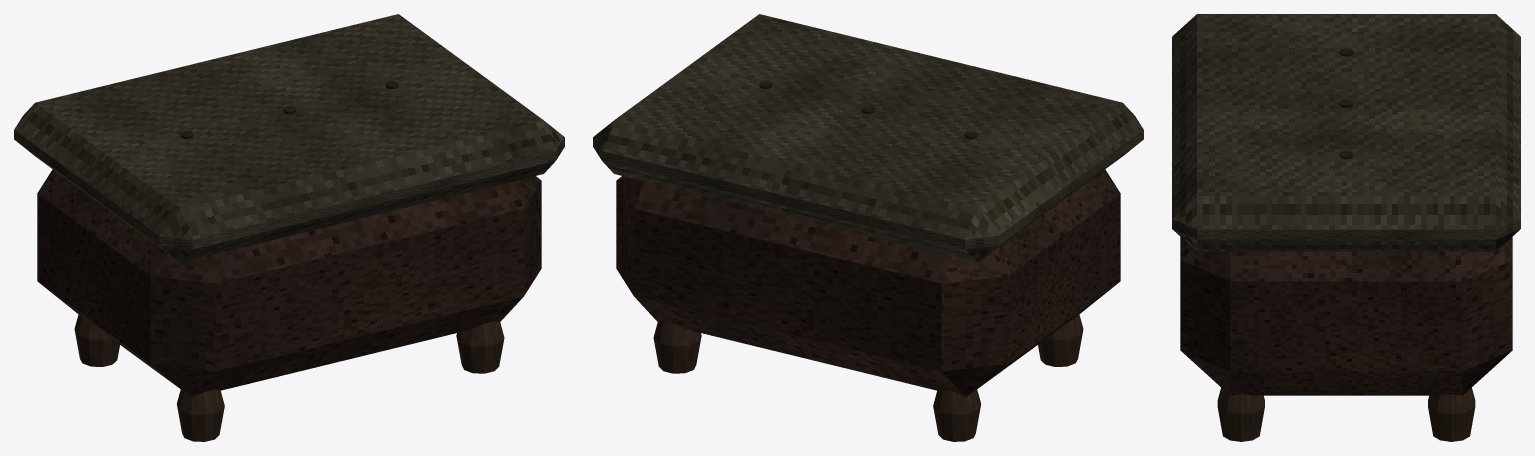
File: level_lived_ottoman_worn.glb
3 views of the same model, side by side, from view 1: azimuth 30°, elevation 25°; view 2: azimuth 150°, elevation 25°; view 3: azimuth 270°, elevation 25° (orthographic). The views are drawn at different scales.
Visible parts, largest first — view 1: level_lived_ottoman_worn; view 2: level_lived_ottoman_worn; view 3: level_lived_ottoman_worn.
Boxes of the visible parts, x1,y1,x2,y2 form: level_lived_ottoman_worn: (14,14,564,441); level_lived_ottoman_worn: (593,14,1143,441); level_lived_ottoman_worn: (1172,14,1520,441).
Size of the model in its own units: 0.87 by 0.52 by 0.63.
3 materials, 3 textured.
